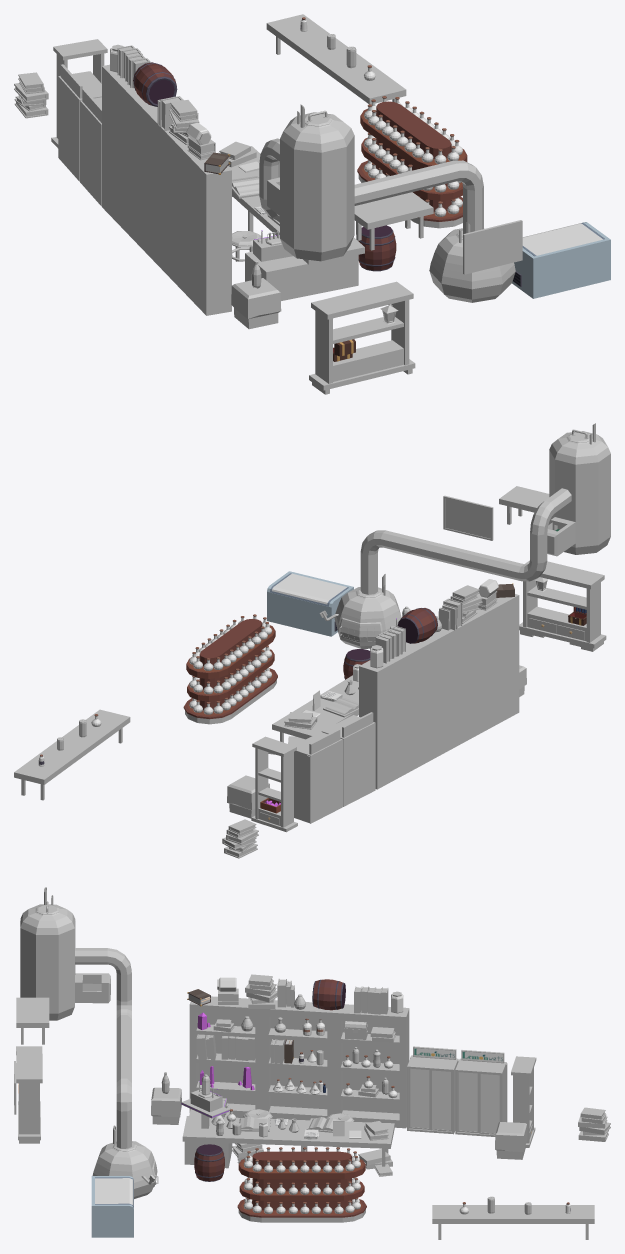
File: INTYeolsOldPotionsShop.fbx
3 renders of one model, top to bottom at view 1: azimuth 30°, elevation 25°; view 2: azimuth 150°, elevation 25°; view 3: azimuth 270°, elevation 25°, orthographic. The views are drawn at different scales.
Parts seen in each view (by area): view 1: FK_Bookshelf01.003, Furnace.002, WoodenBookshelfStar.002, FK_Desk.002, Furnace.003, PotionDisplayStand, FK_Desk.006, Freezer.025, Furnace.001, DrinkFreezerFreezer.003, PhotoFrame.015, FK_Desk.007 (+13 smaller); view 2: FK_Bookshelf01.003, Furnace.002, Furnace.003, PotionDisplayStand, WoodenBookshelfStar.002, DrinkFreezerFreezer.003, FK_Desk.006, Furnace.001, DrinkFreezerFreezer.004, WoodShelf.013, Freezer.025, PhotoFrame.015 (+10 smaller); view 3: FK_Bookshelf01.003, Furnace.002, PotionDisplayStand, FK_Desk.002, Furnace.003, FK_Desk.006, WoodenBookshelfStar.002, Furnace.001, DrinkFreezerFreezer.003, Freezer.025, WoodShelf.013, DrinkFreezerFreezer.004 (+19 smaller).
Boxes of the visible parts, x1,y1,x2,y2 form: FK_Bookshelf01.003: (102,64,231,315); Furnace.002: (267,104,354,261); WoodenBookshelfStar.002: (309,281,415,394); FK_Desk.002: (218,146,364,300); Furnace.003: (259,138,483,233); PotionDisplayStand: (357,101,467,228); FK_Desk.006: (266,14,406,104); Freezer.025: (512,222,610,298); Furnace.001: (429,222,515,302); DrinkFreezerFreezer.003: (58,64,101,181); PhotoFrame.015: (463,220,522,274); FK_Desk.007: (354,192,433,250); FK_Bookshelf01.003: (359,594,519,789); Furnace.002: (547,423,610,556); Furnace.003: (360,488,571,594); PotionDisplayStand: (183,619,277,724); WoodenBookshelfStar.002: (519,560,606,651); DrinkFreezerFreezer.003: (293,729,342,823); FK_Desk.006: (14,709,130,800); Furnace.001: (319,574,401,648); DrinkFreezerFreezer.004: (321,712,375,806); WoodShelf.013: (251,736,297,832); Freezer.025: (267,571,353,636); PhotoFrame.015: (443,495,493,540); FK_Bookshelf01.003: (189,996,409,1128); Furnace.002: (20,887,110,1020); PotionDisplayStand: (237,1151,366,1222); FK_Desk.002: (181,1098,394,1168); Furnace.003: (75,948,131,1148); FK_Desk.006: (432,1205,594,1239); WoodenBookshelfStar.002: (16,1046,42,1143); Furnace.001: (92,1125,158,1198); DrinkFreezerFreezer.003: (455,1050,507,1136); Freezer.025: (91,1176,133,1237); WoodShelf.013: (511,1056,536,1147); DrinkFreezerFreezer.004: (407,1046,458,1134).
Bounding box in the file's own units: 1561 × 1155 × 2819.
